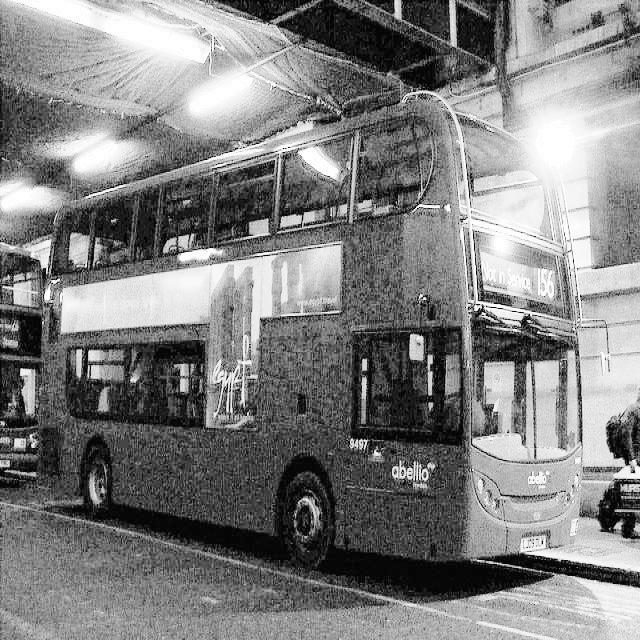Bus: (39, 140, 598, 607), (0, 269, 49, 472)
